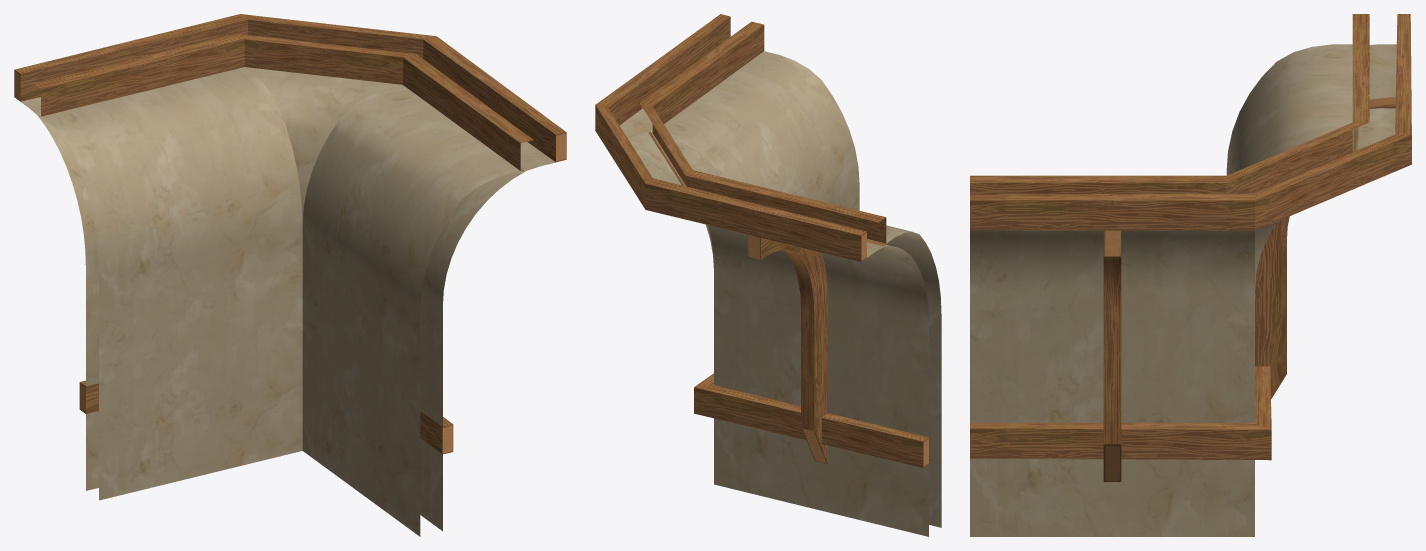
The model's file is Overhang_Plaster_Corner.gltf.
3 renders of one model, left to right at view 1: azimuth 30°, elevation 25°; view 2: azimuth 150°, elevation 25°; view 3: azimuth 270°, elevation 25°, orthographic. The views are drawn at different scales.
Parts seen in each view (by area): view 1: Overhang_Plaster_Corner; view 2: Overhang_Plaster_Corner; view 3: Overhang_Plaster_Corner.
Boxes of the visible parts, bbox=[...] form: Overhang_Plaster_Corner: bbox=[14, 14, 566, 536]; Overhang_Plaster_Corner: bbox=[595, 14, 941, 536]; Overhang_Plaster_Corner: bbox=[970, 14, 1411, 536].
Bounding box in the file's own units: 3.1 × 3.12 × 3.1.
2 materials, 2 textured.
